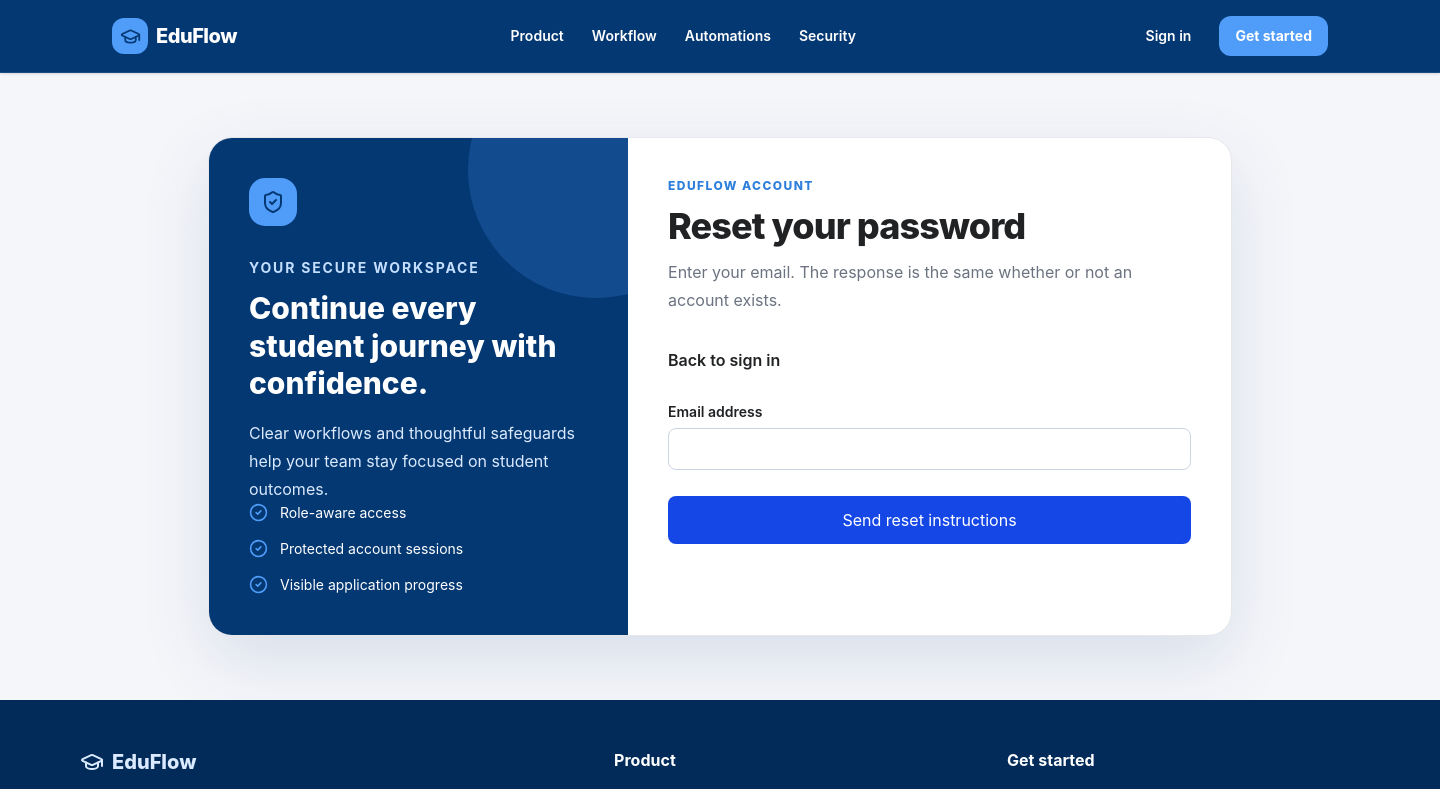
Test: verification and recovery email interfaces › keeps forgot-password sign-in navigation during an error
Type "student@example.test" into the field labelled "Email address" at (930, 449), box x1=668 y1=428 x2=1191 y2=470
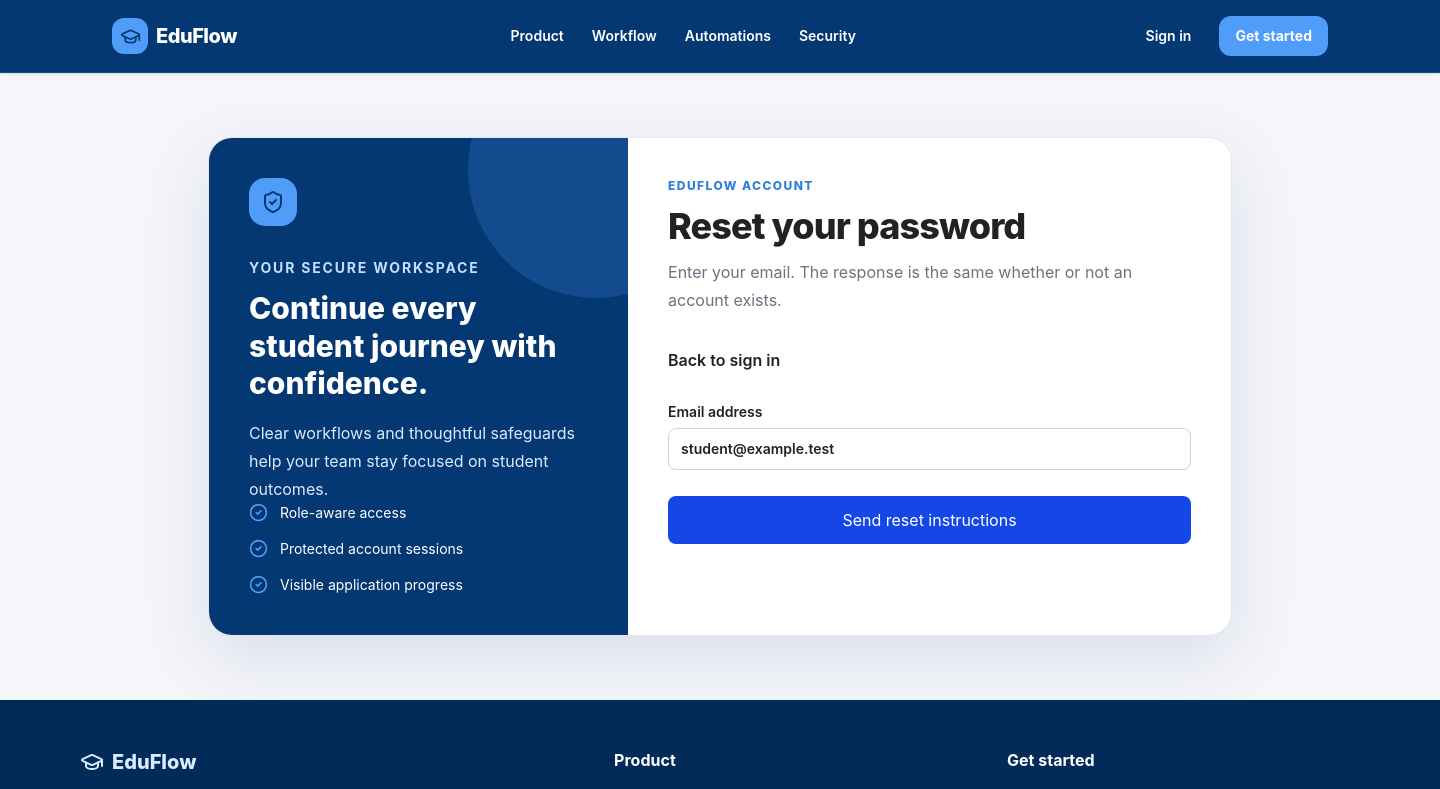
Click the button "Send reset instructions" at (930, 520), box x1=668 y1=496 x2=1191 y2=544
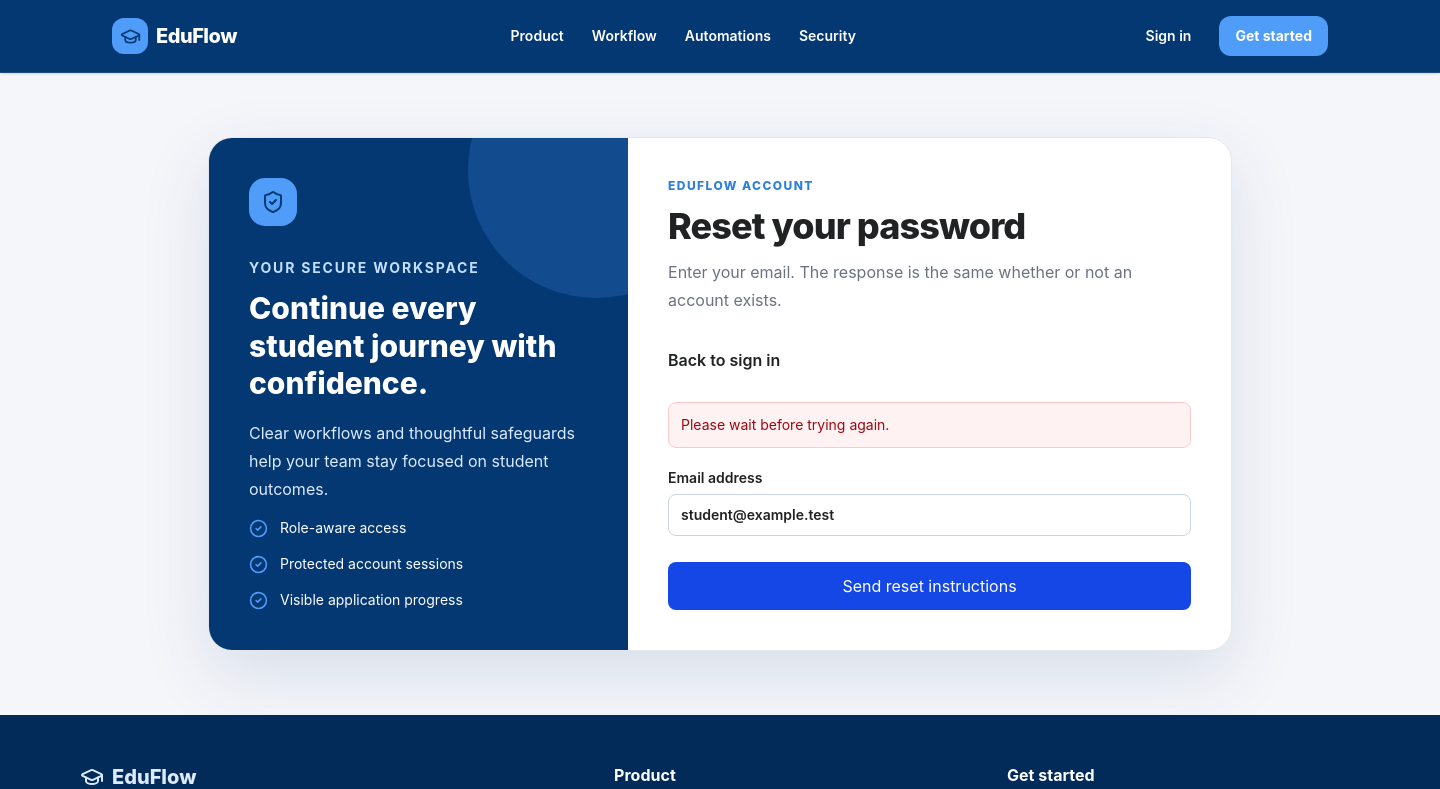
Check: the message shows "wait before trying again", box x1=681 y1=416 x2=889 y2=433
